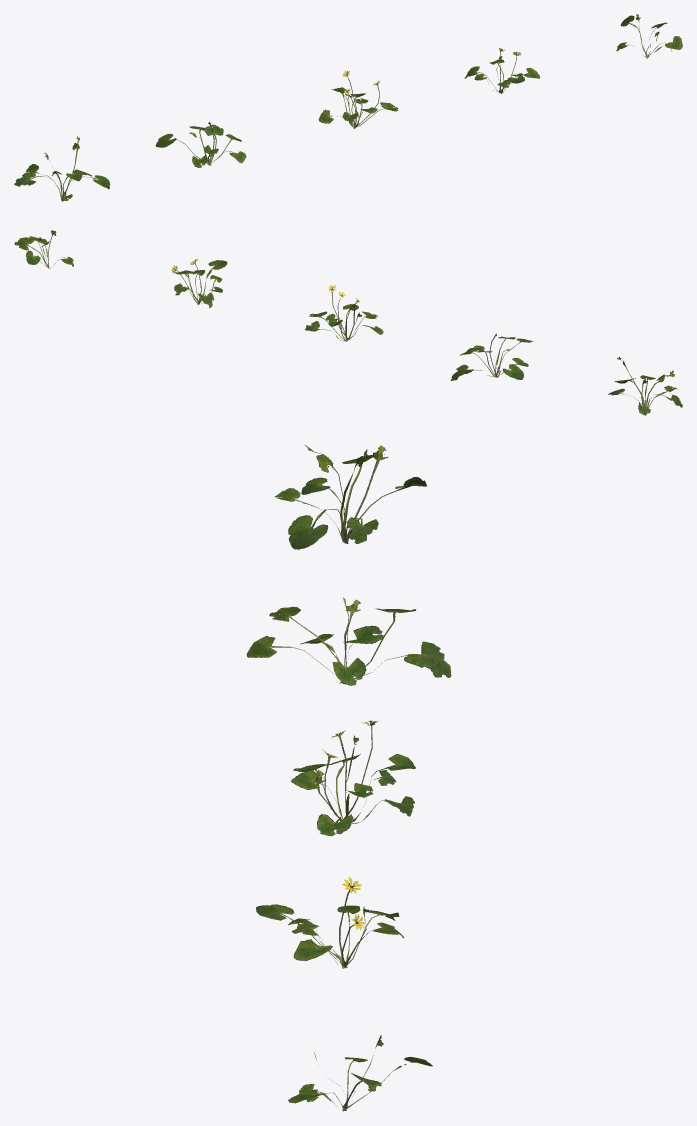
Rendered from celandine_01.glb.
3 views of the same model, one above another, from view 1: azimuth 30°, elevation 25°; view 2: azimuth 150°, elevation 25°; view 3: azimuth 270°, elevation 25° (orthographic). The views are drawn at different scales.
Parts seen in each view (by area): view 1: celandine_01_a_LOD0; view 2: celandine_01_a_LOD0; view 3: celandine_01_a_LOD0.
Boxes of the visible parts, left/top/right/bottom form: celandine_01_a_LOD0: left=14, top=14, right=682, bottom=201; celandine_01_a_LOD0: left=14, top=230, right=682, bottom=415; celandine_01_a_LOD0: left=246, top=445, right=451, bottom=1111.
Bounding box in the file's own units: 2.24 × 0.1852 × 0.3051.
1 material, 1 textured.
